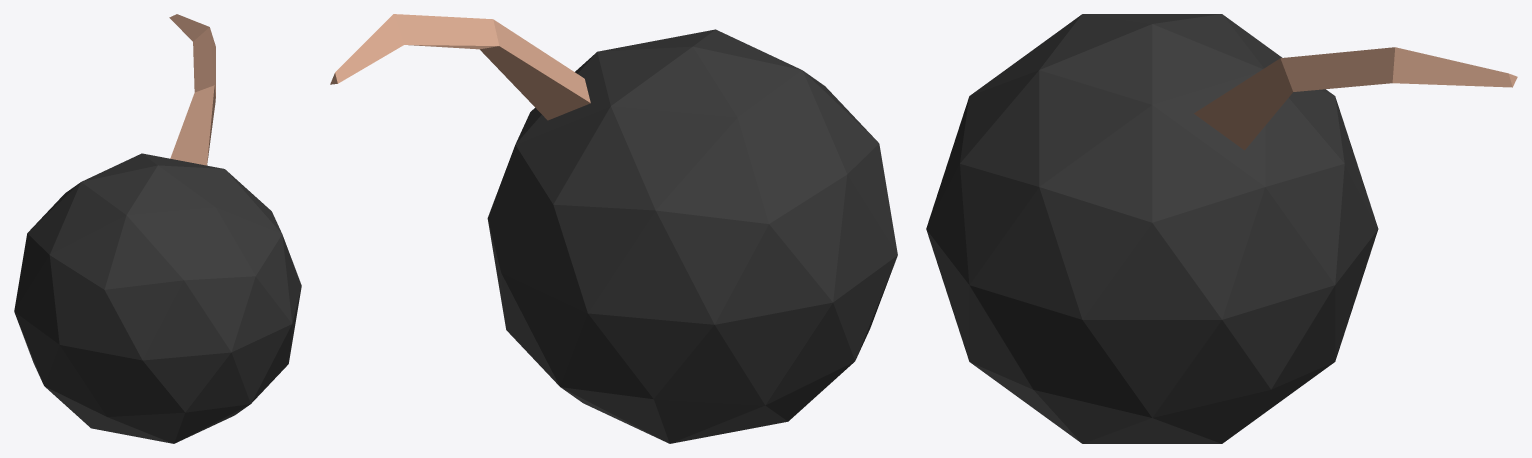
The model's file is SimpleBomb.fbx.
The picture shows the model from 3 angles, left to right: view 1: azimuth 30°, elevation 25°; view 2: azimuth 150°, elevation 25°; view 3: azimuth 270°, elevation 25°; orthographic projection. The views are drawn at different scales.
Parts seen in each view (by area): view 1: Icosphere; view 2: Icosphere; view 3: Icosphere.
Boxes of the visible parts, x1,y1,x2,y2 form: Icosphere: [14, 14, 301, 443]; Icosphere: [330, 14, 897, 443]; Icosphere: [926, 14, 1517, 443].
Size of the model in its own units: 203 by 237 by 262.
